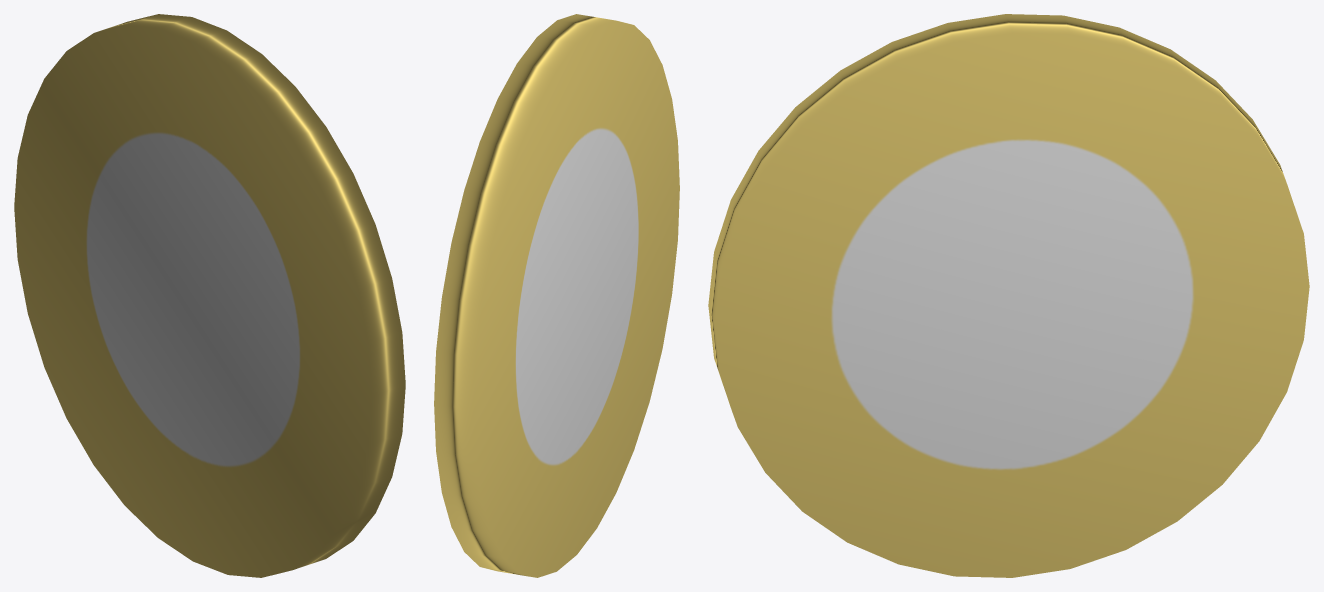
The model's file is 1yen7.fbx.
The picture shows the model from 3 angles, left to right: view 1: azimuth 30°, elevation 25°; view 2: azimuth 150°, elevation 25°; view 3: azimuth 270°, elevation 25°; orthographic projection. The views are drawn at different scales.
Visible parts, largest first — view 1: Cylinder; view 2: Cylinder; view 3: Cylinder.
Boxes of the visible parts, box(x1,y1,x2,y2) form: Cylinder: box(14, 14, 405, 577); Cylinder: box(434, 14, 679, 577); Cylinder: box(708, 14, 1309, 577).
Size of the model in its own units: 8.98 by 40 by 40.01.
Materials: 1 (1 with a texture image).
